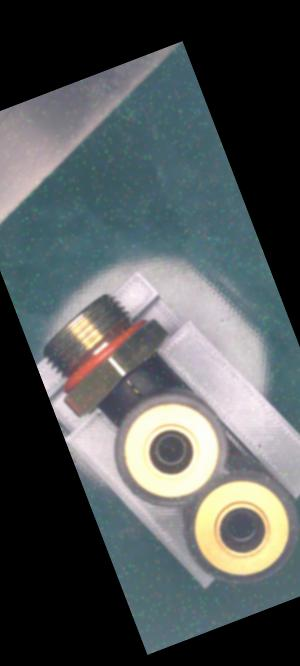craze: (123, 376, 141, 401)
